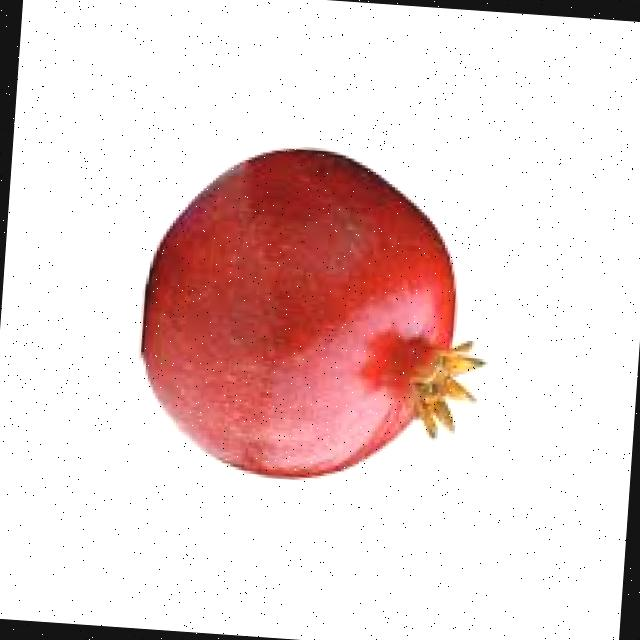Pomegranate: (131, 138, 505, 496)
